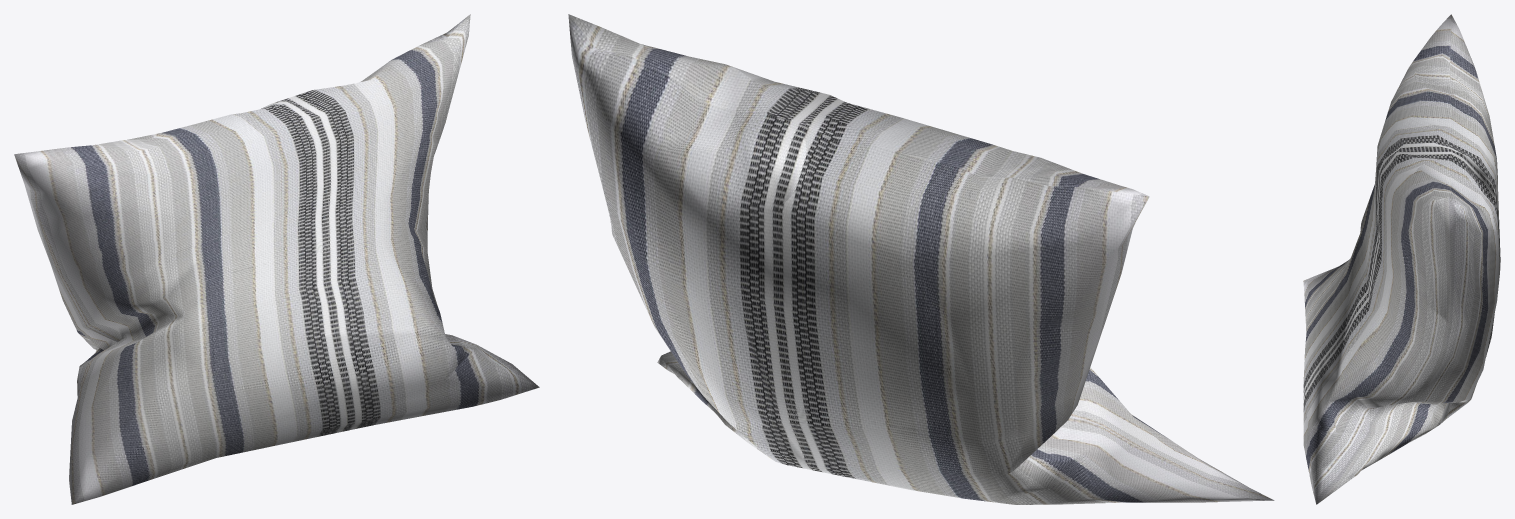
File: Pillow 3.FBX
The picture shows the model from 3 angles, left to right: view 1: azimuth 30°, elevation 25°; view 2: azimuth 150°, elevation 25°; view 3: azimuth 270°, elevation 25°; orthographic projection. The views are drawn at different scales.
Parts seen in each view (by area): view 1: pillow 3; view 2: pillow 3; view 3: pillow 3.
Boxes of the visible parts, box(x1,y1,x2,y2) form: pillow 3: box(14, 14, 539, 504); pillow 3: box(568, 14, 1274, 504); pillow 3: box(1303, 14, 1500, 504).
Size of the model in its own units: 49.69 by 32.31 by 18.73.
1 material, 1 textured.
